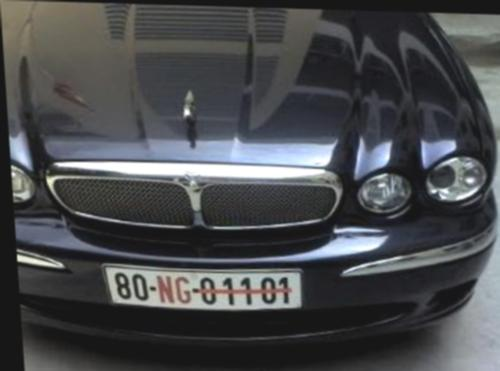License_Plate: (97, 258, 308, 317)
